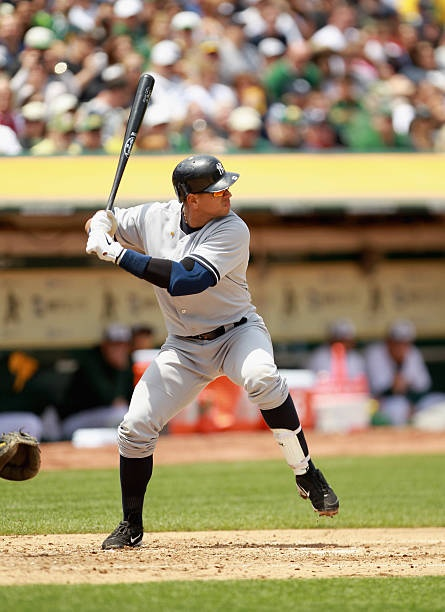bita: (94, 77, 154, 231)
